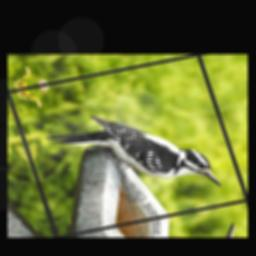Woodpecker: (40, 95, 227, 217)
